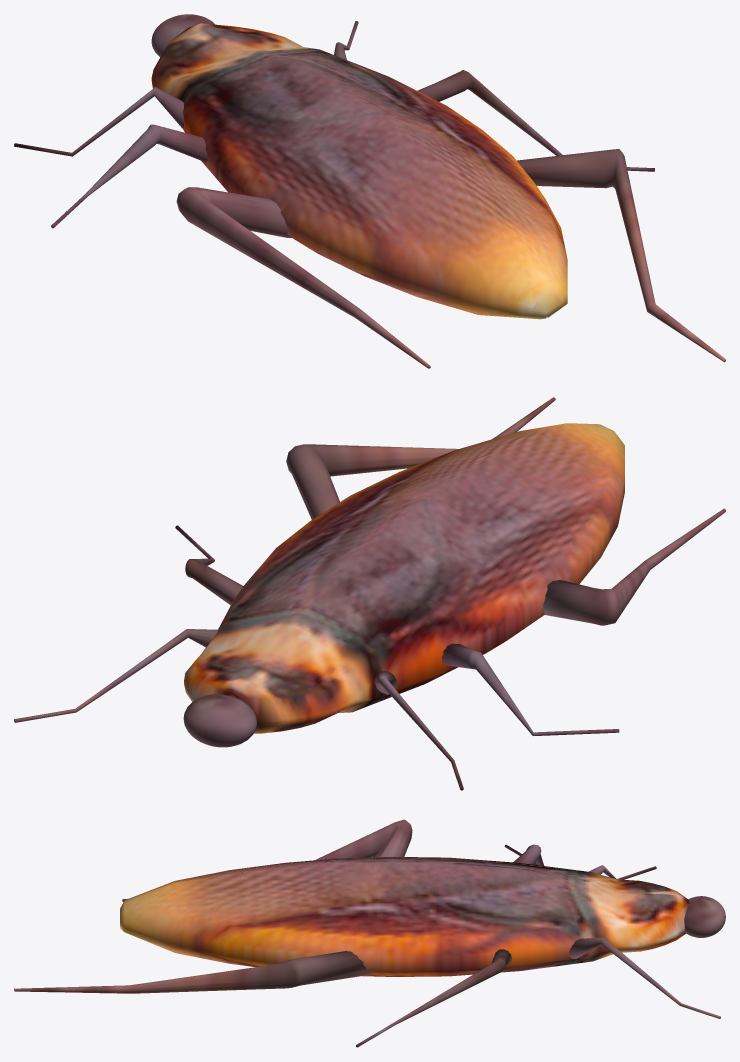
The model's file is uploads_files_4691415_SM_Insect.fbx.
3 views of the same model, one above another, from view 1: azimuth 30°, elevation 25°; view 2: azimuth 150°, elevation 25°; view 3: azimuth 270°, elevation 25° (orthographic). The views are drawn at different scales.
Visible parts, largest first — view 1: SM_Insect; view 2: SM_Insect; view 3: SM_Insect.
Boxes of the visible parts, bbox=[...] form: SM_Insect: bbox=[14, 14, 725, 368]; SM_Insect: bbox=[14, 397, 725, 790]; SM_Insect: bbox=[14, 819, 725, 1047].
Bounding box in the file's own units: 3.25 × 0.6571 × 4.87.
Materials: 1 (1 with a texture image).
